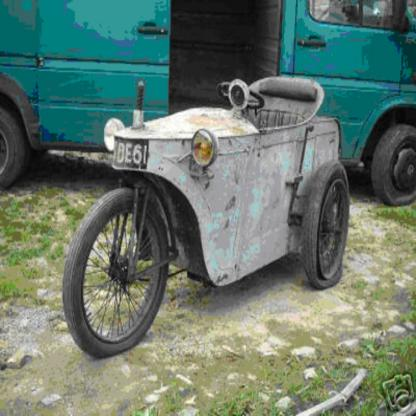Truck: (0, 0, 415, 209)
